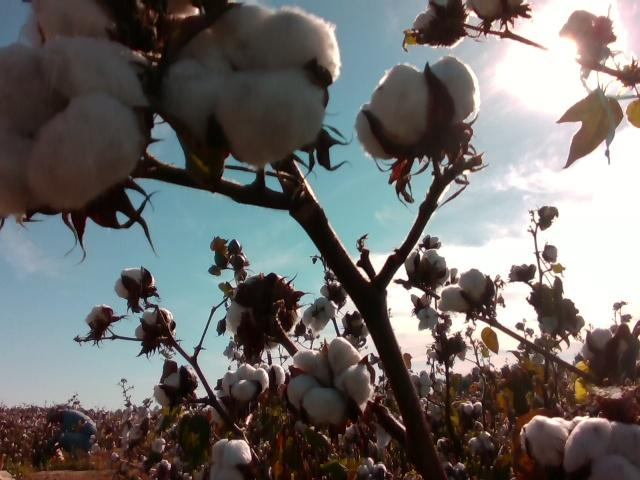cotton_ready: (161, 4, 340, 162), (0, 42, 146, 216), (355, 58, 479, 160), (18, 0, 198, 47), (287, 340, 371, 429), (521, 418, 640, 480), (229, 278, 299, 349), (560, 11, 616, 77), (582, 327, 640, 367), (440, 269, 491, 314), (411, 0, 453, 50), (152, 370, 190, 421), (220, 365, 268, 405), (210, 439, 251, 480), (404, 251, 447, 280), (114, 268, 152, 300), (136, 309, 176, 339), (468, 0, 523, 20)
